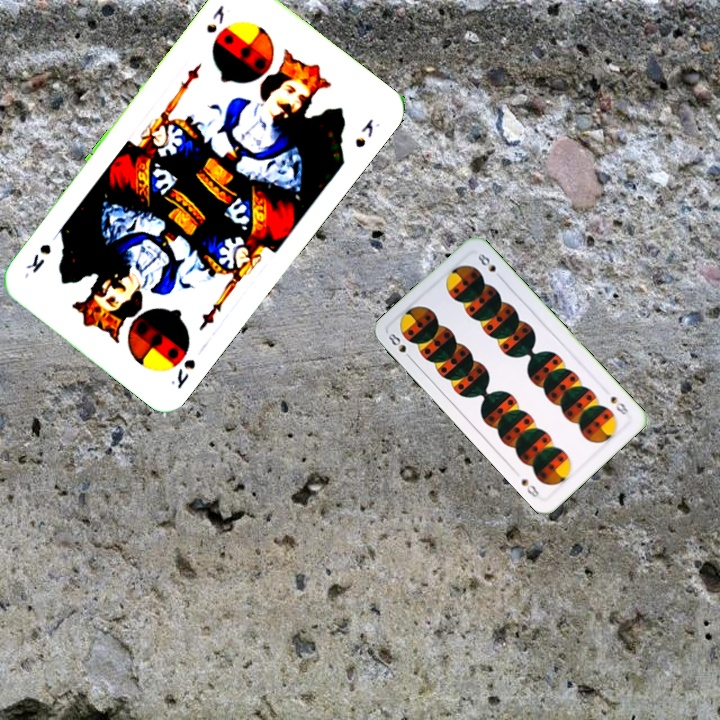S8: (384, 329, 416, 363), (606, 392, 631, 417)
SK: (166, 355, 199, 392), (202, 1, 227, 36)
